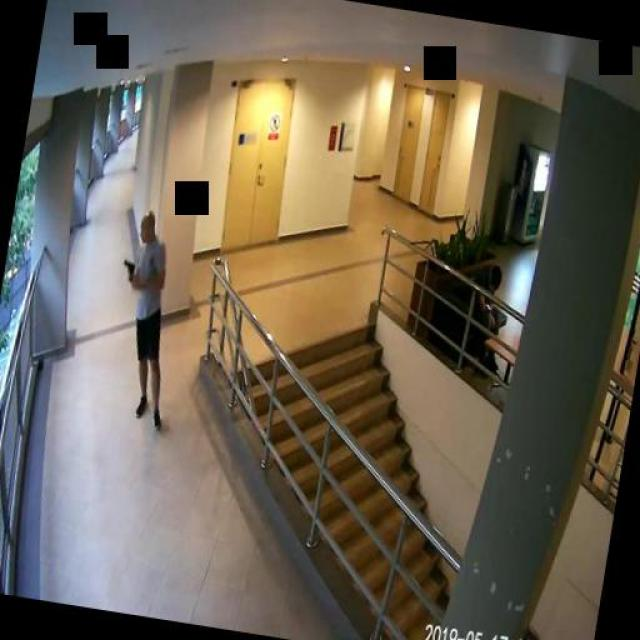gun: (119, 258, 135, 280)
